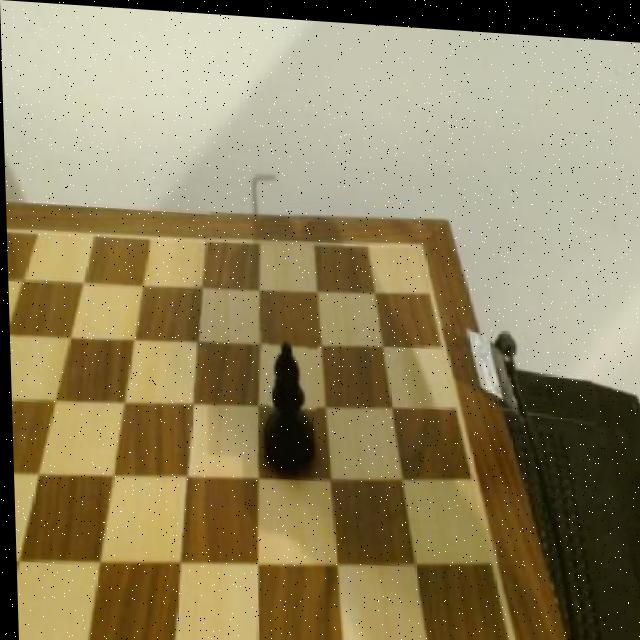bishop: (253, 330, 318, 474)
